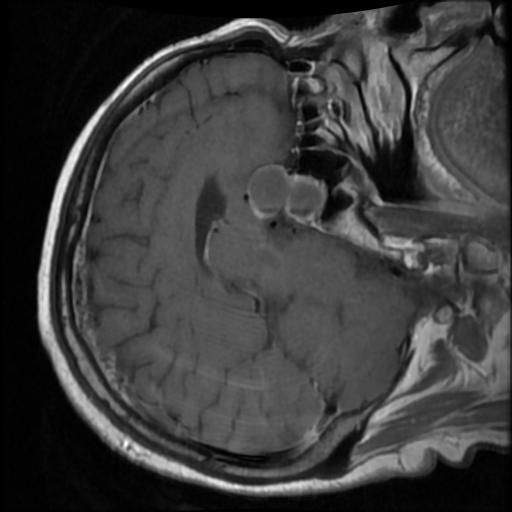pituitary tumour: (246, 163, 327, 225)
